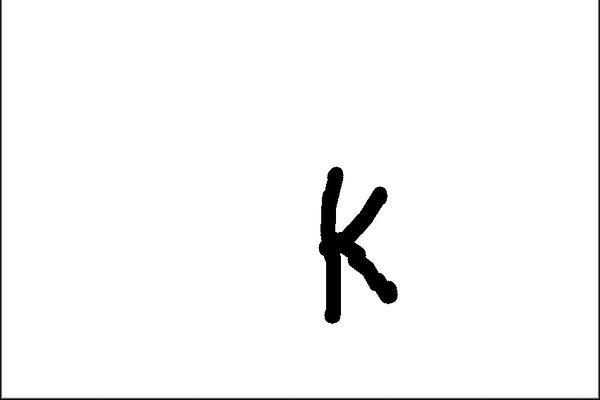K: (306, 157, 410, 335)
